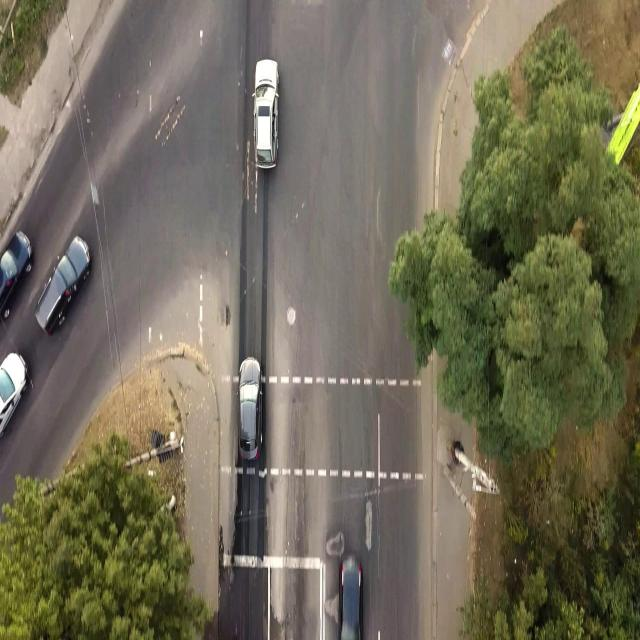Car: (34, 237, 92, 336), (235, 348, 269, 480), (0, 232, 34, 322), (253, 60, 280, 168), (1, 353, 32, 442), (338, 556, 363, 638)
